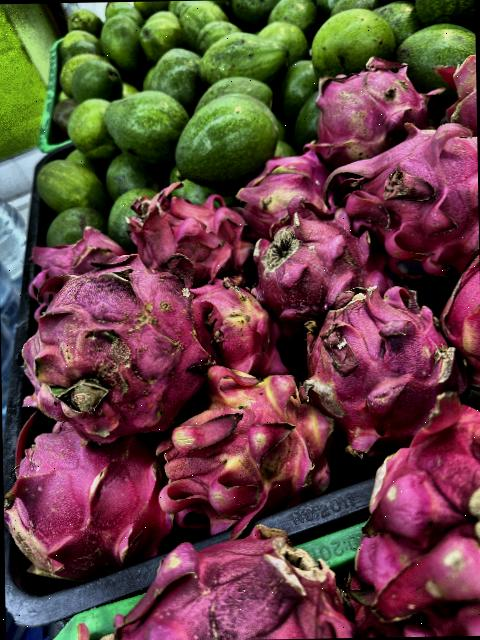buah-naga-belum-matang: (161, 374, 338, 520), (184, 272, 276, 378), (241, 145, 332, 219), (445, 248, 480, 384)
buah-naga-matang: (340, 392, 480, 638), (29, 256, 210, 427), (2, 411, 168, 566), (112, 533, 341, 640), (318, 120, 479, 262), (300, 293, 450, 432), (122, 184, 248, 278), (252, 211, 380, 302), (310, 57, 424, 152), (26, 229, 120, 283)
